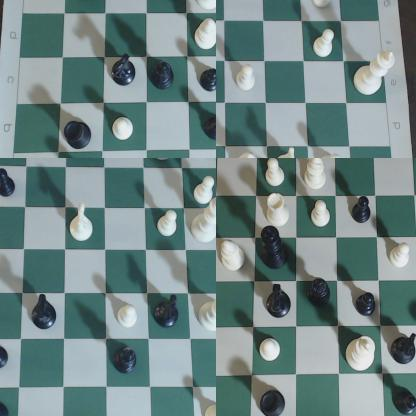black-bishop: (113, 346, 142, 378), (307, 278, 334, 310), (152, 61, 177, 95)
black-king: (261, 224, 295, 274)
black-knight: (153, 291, 183, 331), (32, 291, 59, 333), (110, 54, 143, 88), (268, 285, 296, 320), (391, 330, 416, 368)
black-pawn: (348, 192, 374, 229), (357, 288, 378, 321), (1, 163, 19, 199), (201, 110, 216, 147), (200, 61, 216, 94), (398, 392, 416, 416), (217, 59, 225, 98), (1, 344, 11, 372), (1, 398, 10, 416)
black-rook: (65, 115, 93, 154), (260, 389, 289, 416)
white-bishop: (217, 238, 249, 276), (302, 159, 332, 194), (193, 18, 216, 54), (231, 146, 265, 158)
white-king: (352, 47, 396, 100), (188, 198, 216, 247), (346, 338, 376, 372)
white-knight: (69, 201, 96, 243), (273, 146, 304, 158)
white-pawn: (388, 244, 416, 281), (257, 335, 289, 367), (235, 58, 258, 100), (111, 114, 140, 147), (310, 202, 335, 235), (311, 27, 336, 59), (116, 301, 141, 332), (263, 159, 288, 189), (193, 175, 216, 206), (156, 211, 181, 236), (308, 1, 340, 13)
white-queen: (200, 293, 216, 335)
white-rook: (264, 194, 294, 231)
